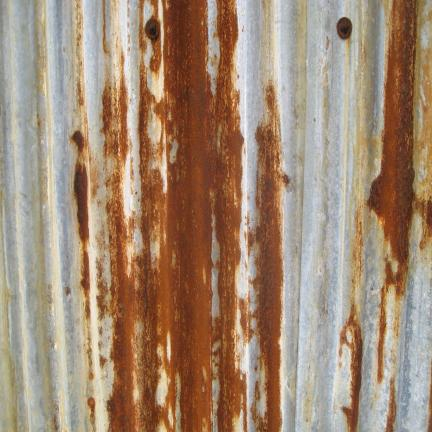besi_tidak_karat: (0, 0, 90, 430), (294, 63, 333, 428), (396, 246, 432, 431), (243, 2, 334, 60), (336, 46, 368, 180)
karat: (164, 0, 215, 431), (367, 0, 417, 297), (213, 0, 246, 431), (101, 50, 136, 432), (254, 80, 286, 432), (71, 130, 90, 319)
